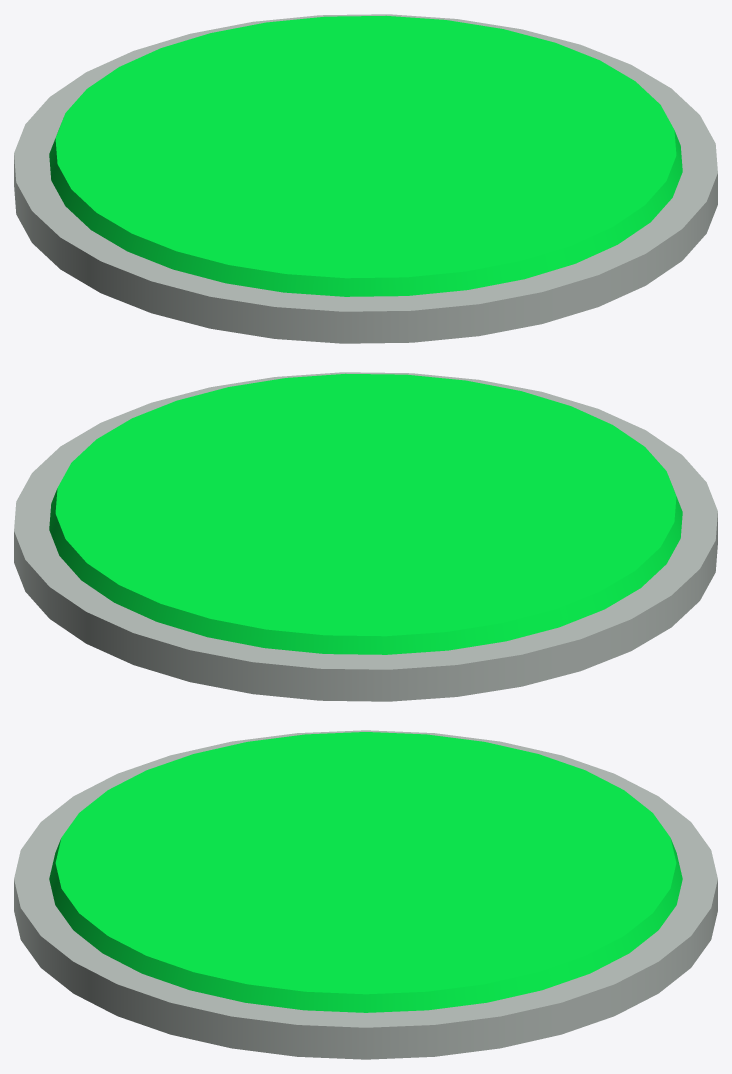
Rendered from push-button.glb.
The picture shows the model from 3 angles, top to bottom: view 1: azimuth 30°, elevation 25°; view 2: azimuth 150°, elevation 25°; view 3: azimuth 270°, elevation 25°; orthographic projection.
Parts seen in each view (by area): view 1: Cylinder (×2); view 2: Cylinder (×2); view 3: Cylinder (×2).
Boxes of the visible parts, box(x1,y1,x2,y2) form: Cylinder (×2): box(14, 14, 717, 343); Cylinder (×2): box(14, 372, 717, 701); Cylinder (×2): box(14, 730, 717, 1059).
Size of the model in its own units: 2 by 0.15 by 2.
